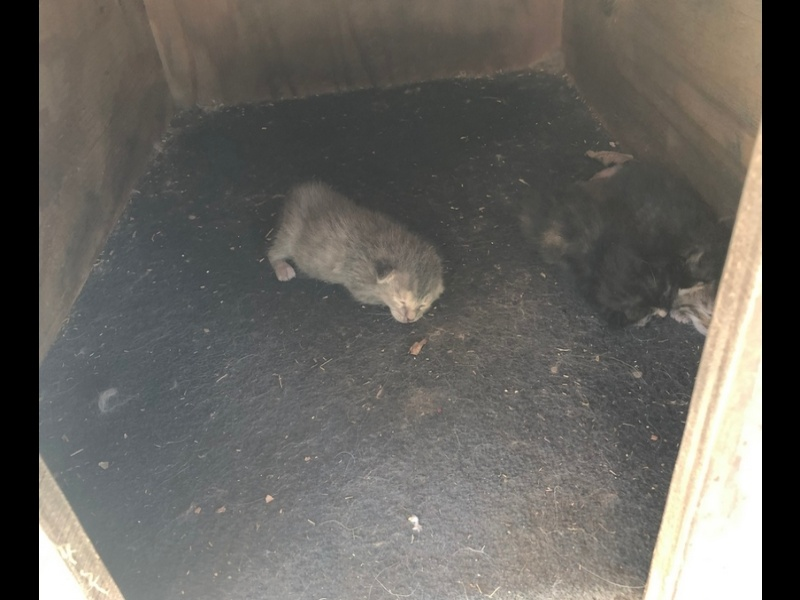cat: (259, 180, 443, 324), (523, 177, 679, 325), (618, 148, 728, 334)
